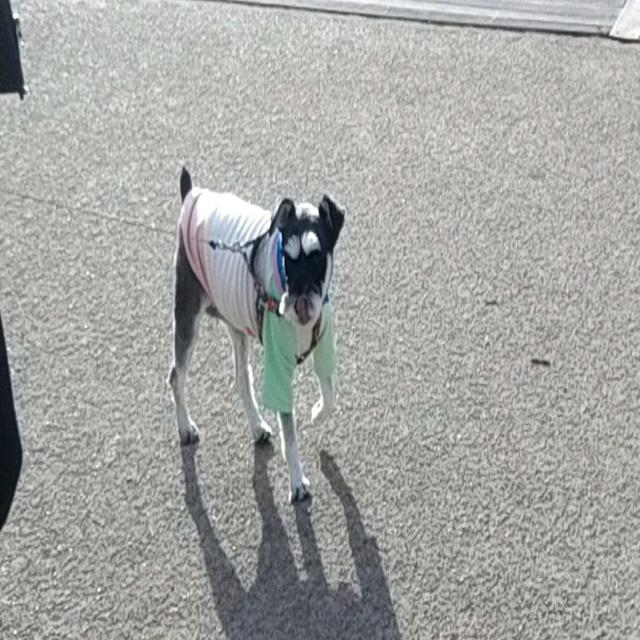Dog: (168, 163, 344, 502)
